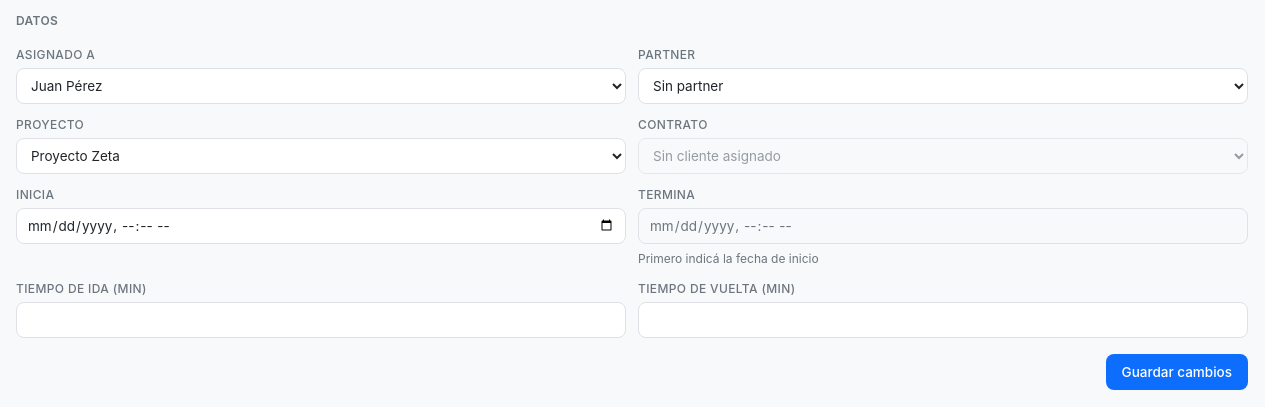
Test: DatosForm › date/time validation › auto-defaults End to Start + 1 hour when End is empty and user sets Start
This screenshot has width=1265, height=407.
Type "2026-06-10T10:00" into the field labelled "Inicia" at (321, 226), box [16,208,626,244]
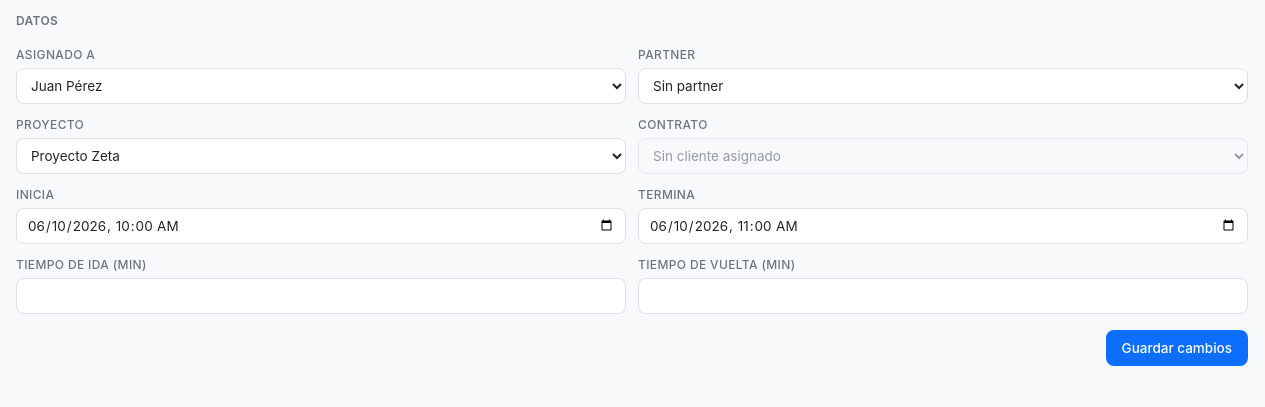
Now the field labelled "Termina" holds "2026-06-10T11:00", box [638,208,1248,244]
Now the field labelled "Termina" is enabled, box [638,208,1248,244]
